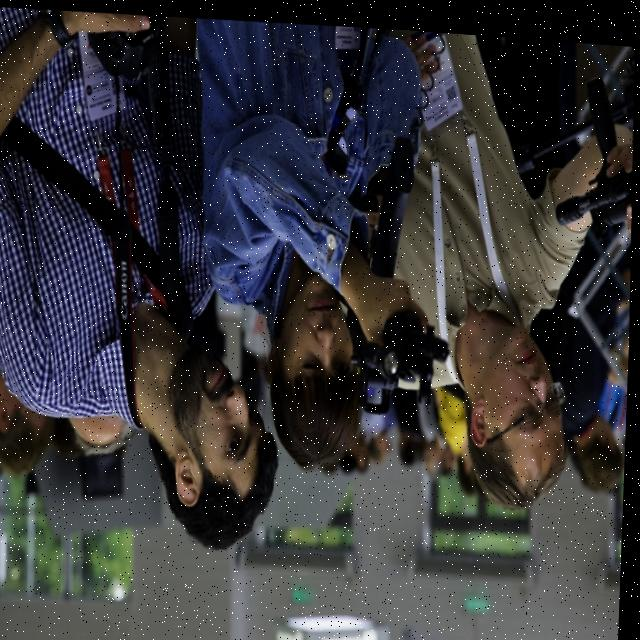firearm: (349, 129, 456, 413), (553, 32, 637, 225), (511, 58, 636, 173)
